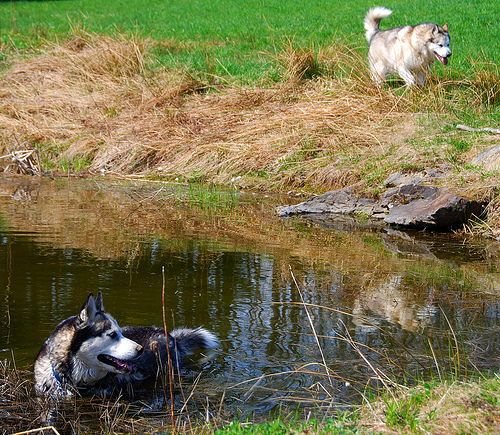dog: (32, 288, 220, 407), (359, 4, 456, 90)
